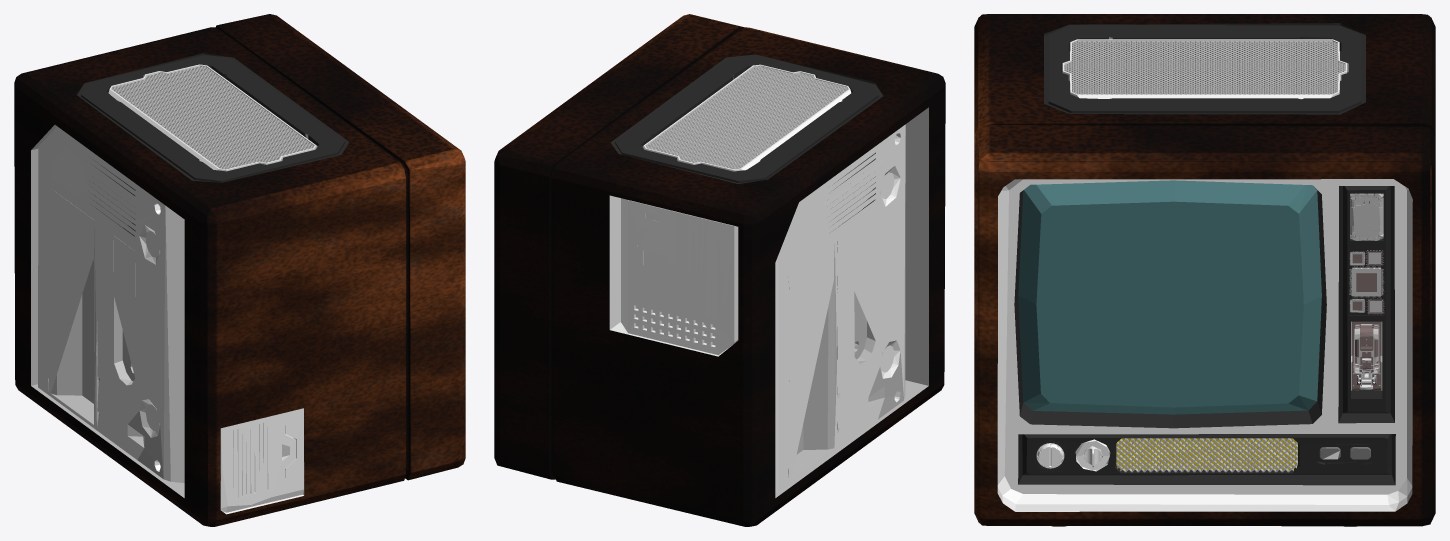
File: crt2.2.fbx
The picture shows the model from 3 angles, left to right: view 1: azimuth 30°, elevation 25°; view 2: azimuth 150°, elevation 25°; view 3: azimuth 270°, elevation 25°; orthographic projection. The views are drawn at different scales.
Visible parts, largest first — view 1: Body.001, Grating_Plate_Plane.001, Grating_Plate_Cube.005; view 2: Body.001, Grating_Plate_Plane.001, Grating_Plate_Cube.005; view 3: Body.001, Grating_Plate_Plane.001, Grate_Cut1_1_Plane.005, Grating_Plate_Cube.005, Mx_Complex_Digg_In_Plane, C_Chipset_Cube, Bc_Complex1_1_Cube, F_Bigtwistknob_Ob_Bigknobb.002, F_Buttonpanel_Ob_2Buttonpanel.001.
Boxes of the visible parts, x1,y1,x2,y2 form: Body.001: (14, 14, 465, 526); Grating_Plate_Plane.001: (111, 66, 313, 169); Grating_Plate_Cube.005: (108, 64, 317, 171); Body.001: (494, 14, 945, 526); Grating_Plate_Plane.001: (646, 66, 848, 169); Grating_Plate_Cube.005: (642, 64, 851, 171); Body.001: (974, 14, 1435, 526); Grating_Plate_Plane.001: (1064, 41, 1345, 94); Grate_Cut1_1_Plane.005: (1116, 438, 1297, 472); Grating_Plate_Cube.005: (1062, 39, 1347, 99); Mx_Complex_Digg_In_Plane: (1351, 321, 1382, 390); C_Chipset_Cube: (1349, 250, 1384, 314); Bc_Complex1_1_Cube: (1350, 193, 1383, 240); F_Bigtwistknob_Ob_Bigknobb.002: (1033, 439, 1102, 472); F_Buttonpanel_Ob_2Buttonpanel.001: (1319, 447, 1370, 459).
Bounding box in the file's own units: 196 × 235 × 253.
